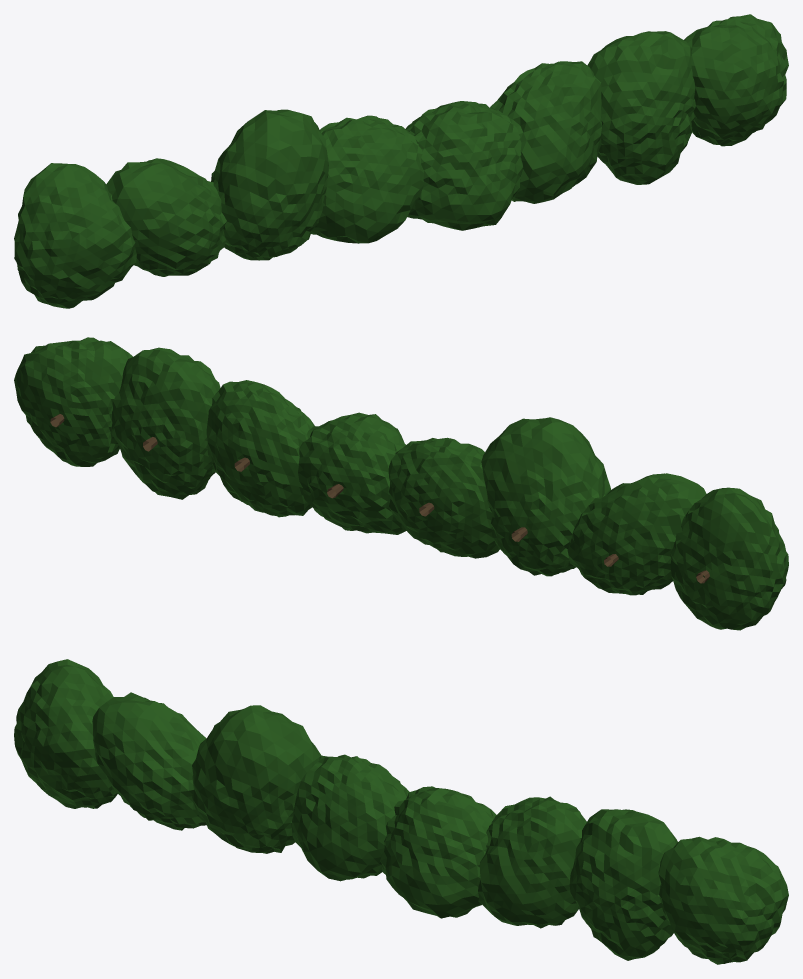
File: citrus_run8_e.obj
3 renders of one model, top to bottom at view 1: azimuth 30°, elevation 25°; view 2: azimuth 150°, elevation 25°; view 3: azimuth 330°, elevation 25°, orthographic.
Parts seen in each view (by area): view 1: canopy; view 2: canopy, trunk; view 3: canopy.
Boxes of the visible parts, x1,y1,x2,y2 form: canopy: [14, 14, 788, 308]; canopy: [14, 337, 788, 630]; trunk: [50, 414, 709, 583]; canopy: [14, 659, 788, 964].
Bounding box in the file's own units: 24.81 × 5.07 × 3.16.
